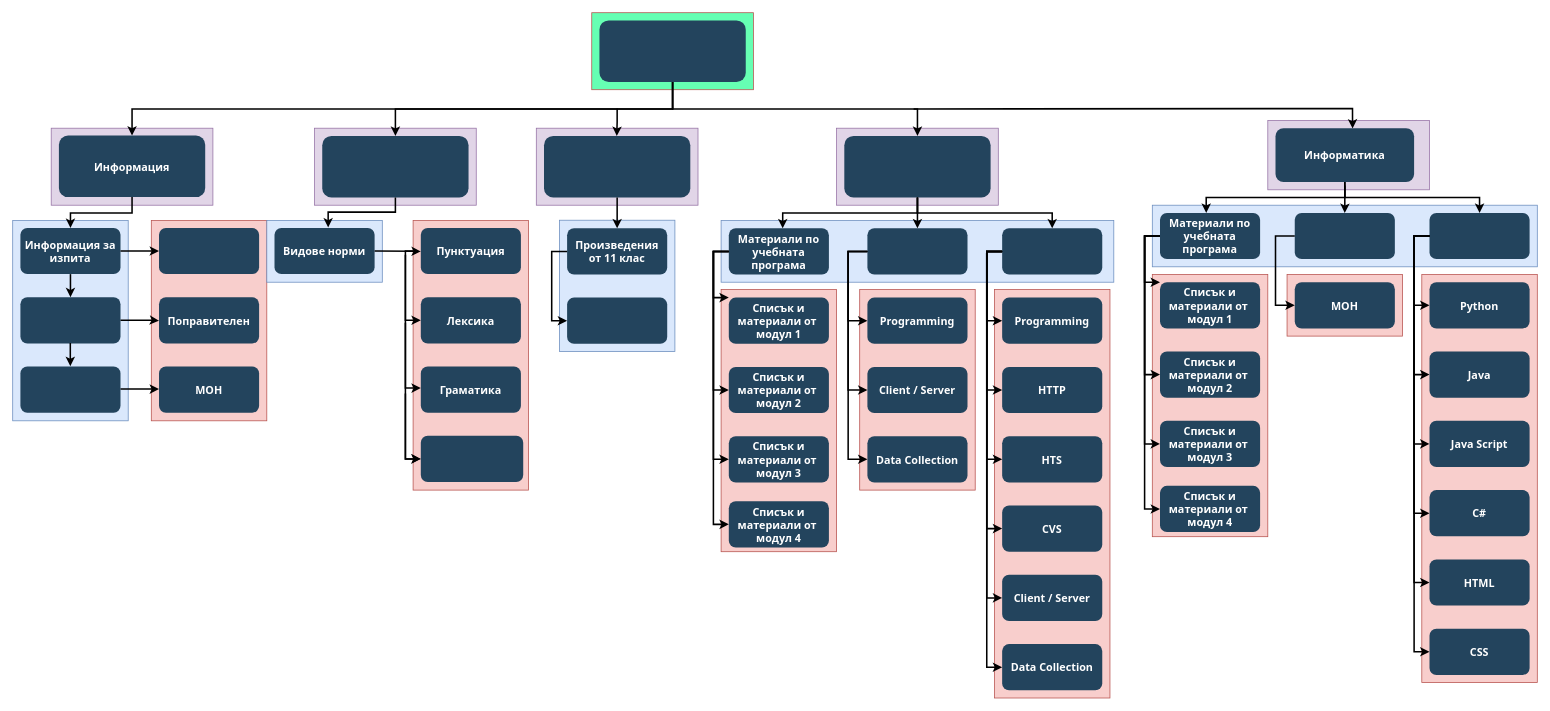
The diagram is 1550 pixels wide and 711 high, and some of its shapes have lost their labels. Here are the shapes that lost their labels. From the top down, the box of each, then its label:
(599, 20, 745, 82): Начална страница
(322, 136, 468, 197): Български език
(544, 136, 690, 197): Лителатура
(844, 136, 990, 197): Информационни технологии
(159, 228, 259, 274): Редовен изпит
(867, 228, 967, 274): SSI
(1002, 228, 1102, 274): XMI
(1294, 213, 1394, 259): Изпити от предходни години
(1429, 213, 1529, 259): Учебници
(20, 297, 120, 343): Информация за поправката
(567, 297, 667, 343): Произведения от 12 клас
(20, 366, 120, 412): Новини
(420, 435, 523, 482): Правописни
